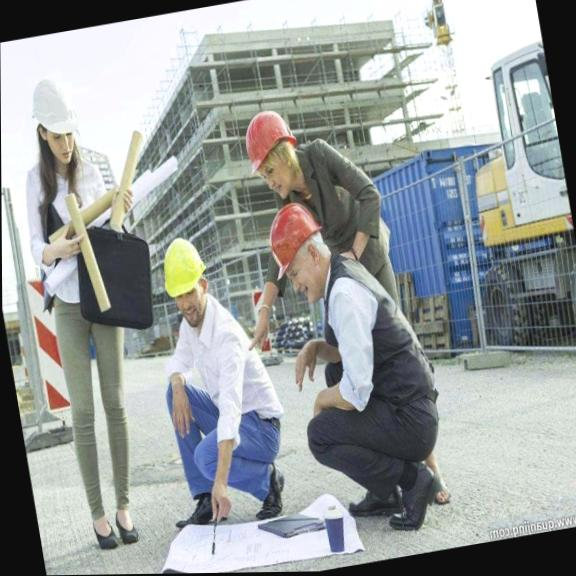no_safety_vest: (310, 231, 447, 442), (10, 134, 140, 307), (153, 279, 288, 441), (274, 121, 404, 276)
